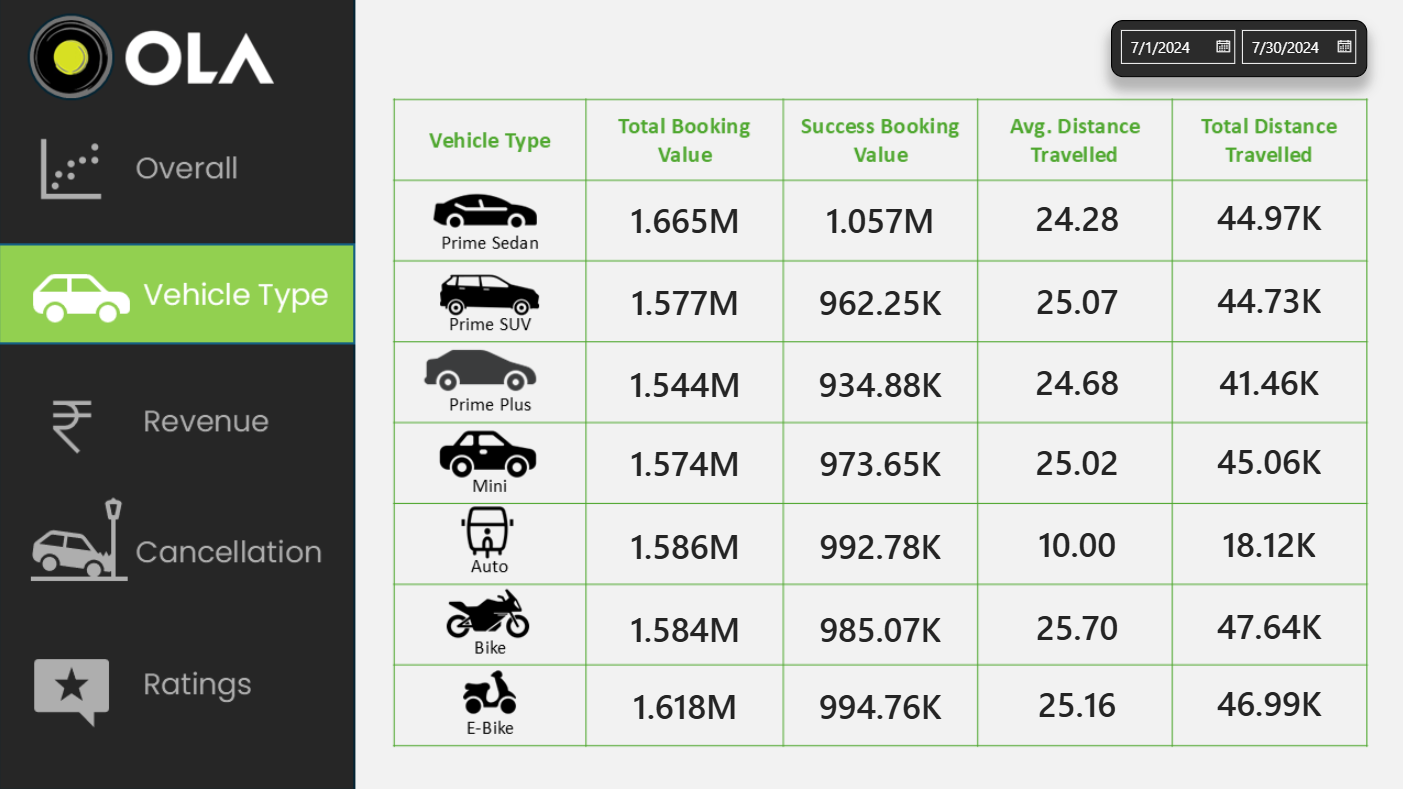

The dashboard page shown, as its layout file describes it:
{"tool":"powerbi","page":{"name":"VEHICLE TYPE","canvas":[1280,720],"ordinal":1},"visuals":[{"type":"actionButton","box":[0,220,322.9,91.1],"z":0},{"type":"actionButton","box":[0,341.8,322.9,91.1],"z":1000},{"type":"actionButton","box":[0,446.4,322.7,90.9],"z":2000},{"type":"actionButton","box":[0,580.9,322.7,90.9],"z":3000},{"type":"actionButton","box":[0,111.8,322.7,90.9],"z":4000},{"type":"cardVisual","fields":{"Data":["Sum(July.Booking_Value)"]},"box":[533,161.5,180.7,75.2],"z":5000},{"type":"cardVisual","fields":{"Data":["Sum(July.Booking_Value)"]},"box":[533,236.7,180.7,75.2],"z":6000},{"type":"cardVisual","fields":{"Data":["Sum(July.Booking_Value)"]},"box":[533,311,180.7,75.2],"z":7000},{"type":"cardVisual","fields":{"Data":["Sum(July.Booking_Value)"]},"box":[533.2,382.9,180.7,75.2],"z":8000},{"type":"cardVisual","fields":{"Data":["Sum(July.Booking_Value)"]},"box":[533.2,458.3,180.7,75.2],"z":9000},{"type":"cardVisual","fields":{"Data":["Sum(July.Booking_Value)"]},"box":[533.2,603.5,180.7,75.2],"z":10000},{"type":"cardVisual","fields":{"Data":["Sum(July.Booking_Value)"]},"box":[532.9,533.2,180.7,75.2],"z":11000},{"type":"cardVisual","fields":{"Data":["Sum(July.Booking_Value)"]},"box":[710,161.5,180.7,75.2],"z":12000},{"type":"cardVisual","fields":{"Data":["Sum(July.Booking_Value)"]},"box":[710,236.7,180.7,75.2],"z":13000},{"type":"cardVisual","fields":{"Data":["Sum(July.Booking_Value)"]},"box":[710,311,180.7,75.2],"z":14000},{"type":"cardVisual","fields":{"Data":["Sum(July.Booking_Value)"]},"box":[710.1,382.9,180.7,75.2],"z":15000},{"type":"cardVisual","fields":{"Data":["Sum(July.Booking_Value)"]},"box":[710.1,458.3,180.7,75.2],"z":16000},{"type":"cardVisual","fields":{"Data":["Sum(July.Booking_Value)"]},"box":[710.1,603.5,180.7,75.2],"z":17000},{"type":"cardVisual","fields":{"Data":["Sum(July.Booking_Value)"]},"box":[709.8,533.2,180.7,75.2],"z":18000},{"type":"cardVisual","fields":{"Data":["Avg(July.Ride_Distance)"]},"box":[889.2,159.9,180.7,75.2],"z":19000},{"type":"cardVisual","fields":{"Data":["Avg(July.Ride_Distance)"]},"box":[889.2,235.2,180.7,75.2],"z":20000},{"type":"cardVisual","fields":{"Data":["Avg(July.Ride_Distance)"]},"box":[889.2,309.5,180.7,75.2],"z":21000},{"type":"cardVisual","fields":{"Data":["Avg(July.Ride_Distance)"]},"box":[889.3,381.4,180.7,75.2],"z":22000},{"type":"cardVisual","fields":{"Data":["Avg(July.Ride_Distance)"]},"box":[889.3,456.8,180.7,75.2],"z":23000},{"type":"cardVisual","fields":{"Data":["Avg(July.Ride_Distance)"]},"box":[889.3,602,180.7,75.2],"z":24000},{"type":"cardVisual","fields":{"Data":["Avg(July.Ride_Distance)"]},"box":[889,531.7,180.7,75.2],"z":25000},{"type":"cardVisual","fields":{"Data":["Sum(July.Ride_Distance)"]},"box":[1063.8,159.2,180.7,75.2],"z":26000},{"type":"cardVisual","fields":{"Data":["Sum(July.Ride_Distance)"]},"box":[1063.8,234.4,180.7,75.2],"z":27000},{"type":"cardVisual","fields":{"Data":["Sum(July.Ride_Distance)"]},"box":[1063.8,308.7,180.7,75.2],"z":28000},{"type":"cardVisual","fields":{"Data":["Sum(July.Ride_Distance)"]},"box":[1063.9,380.6,180.7,75.2],"z":29000},{"type":"cardVisual","fields":{"Data":["Sum(July.Ride_Distance)"]},"box":[1063.9,456,180.7,75.2],"z":30000},{"type":"cardVisual","fields":{"Data":["Sum(July.Ride_Distance)"]},"box":[1063.9,601.2,180.7,75.2],"z":31000},{"type":"cardVisual","fields":{"Data":["Sum(July.Ride_Distance)"]},"box":[1063.6,530.9,180.7,75.2],"z":32000},{"type":"slicer","title":"Date","fields":{"Values":["July.Date"]},"box":[1011,18.3,233,52.3],"z":33000}]}

Visuals, with their boxes in screenshot pixels (x1, y1, x2, y2), scaled from the page's 1280x720 canvas onto the 1403x789 screenshot:
actionButton: box(0, 241, 354, 341)
actionButton: box(0, 375, 354, 474)
actionButton: box(0, 489, 354, 589)
actionButton: box(0, 637, 354, 736)
actionButton: box(0, 123, 354, 222)
cardVisual - Sum(July.Booking_Value): box(584, 177, 782, 259)
cardVisual - Sum(July.Booking_Value): box(584, 259, 782, 342)
cardVisual - Sum(July.Booking_Value): box(584, 341, 782, 423)
cardVisual - Sum(July.Booking_Value): box(584, 420, 783, 502)
cardVisual - Sum(July.Booking_Value): box(584, 502, 783, 585)
cardVisual - Sum(July.Booking_Value): box(584, 661, 783, 744)
cardVisual - Sum(July.Booking_Value): box(584, 584, 782, 667)
cardVisual - Sum(July.Booking_Value): box(778, 177, 976, 259)
cardVisual - Sum(July.Booking_Value): box(778, 259, 976, 342)
cardVisual - Sum(July.Booking_Value): box(778, 341, 976, 423)
cardVisual - Sum(July.Booking_Value): box(778, 420, 976, 502)
cardVisual - Sum(July.Booking_Value): box(778, 502, 976, 585)
cardVisual - Sum(July.Booking_Value): box(778, 661, 976, 744)
cardVisual - Sum(July.Booking_Value): box(778, 584, 976, 667)
cardVisual - Avg(July.Ride_Distance): box(975, 175, 1173, 258)
cardVisual - Avg(July.Ride_Distance): box(975, 258, 1173, 340)
cardVisual - Avg(July.Ride_Distance): box(975, 339, 1173, 422)
cardVisual - Avg(July.Ride_Distance): box(975, 418, 1173, 500)
cardVisual - Avg(July.Ride_Distance): box(975, 501, 1173, 583)
cardVisual - Avg(July.Ride_Distance): box(975, 660, 1173, 742)
cardVisual - Avg(July.Ride_Distance): box(974, 583, 1172, 665)
cardVisual - Sum(July.Ride_Distance): box(1166, 174, 1364, 257)
cardVisual - Sum(July.Ride_Distance): box(1166, 257, 1364, 339)
cardVisual - Sum(July.Ride_Distance): box(1166, 338, 1364, 421)
cardVisual - Sum(July.Ride_Distance): box(1166, 417, 1364, 499)
cardVisual - Sum(July.Ride_Distance): box(1166, 500, 1364, 582)
cardVisual - Sum(July.Ride_Distance): box(1166, 659, 1364, 741)
cardVisual - Sum(July.Ride_Distance): box(1166, 582, 1364, 664)
"Date" slicer: box(1108, 20, 1364, 77)
